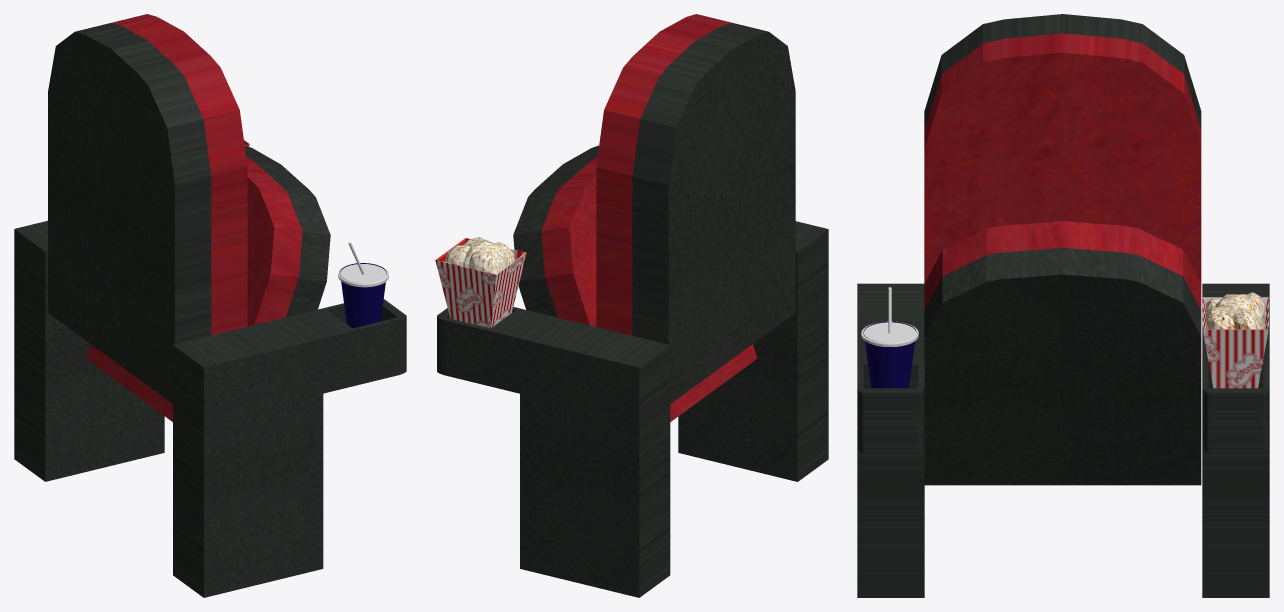
File: butaca_2deco.fbx
3 views of the same model, side by side, from view 1: azimuth 30°, elevation 25°; view 2: azimuth 150°, elevation 25°; view 3: azimuth 270°, elevation 25° (orthographic). The views are drawn at different scales.
Parts seen in each view (by area): view 1: Butaca, Bebida; view 2: Butaca, CuboPalomitas; view 3: Butaca, CuboPalomitas, Bebida.
Boxes of the visible parts, x1,y1,x2,y2 form: Butaca: (14, 14, 406, 597); Bebida: (338, 242, 388, 328); Butaca: (437, 14, 828, 597); CuboPalomitas: (435, 237, 526, 328); Butaca: (857, 14, 1269, 597); CuboPalomitas: (1202, 292, 1268, 388); Bebida: (861, 287, 918, 388).
Bounding box in the file's own units: 187 × 416 × 298.
Materials: 3 (1 with a texture image).
